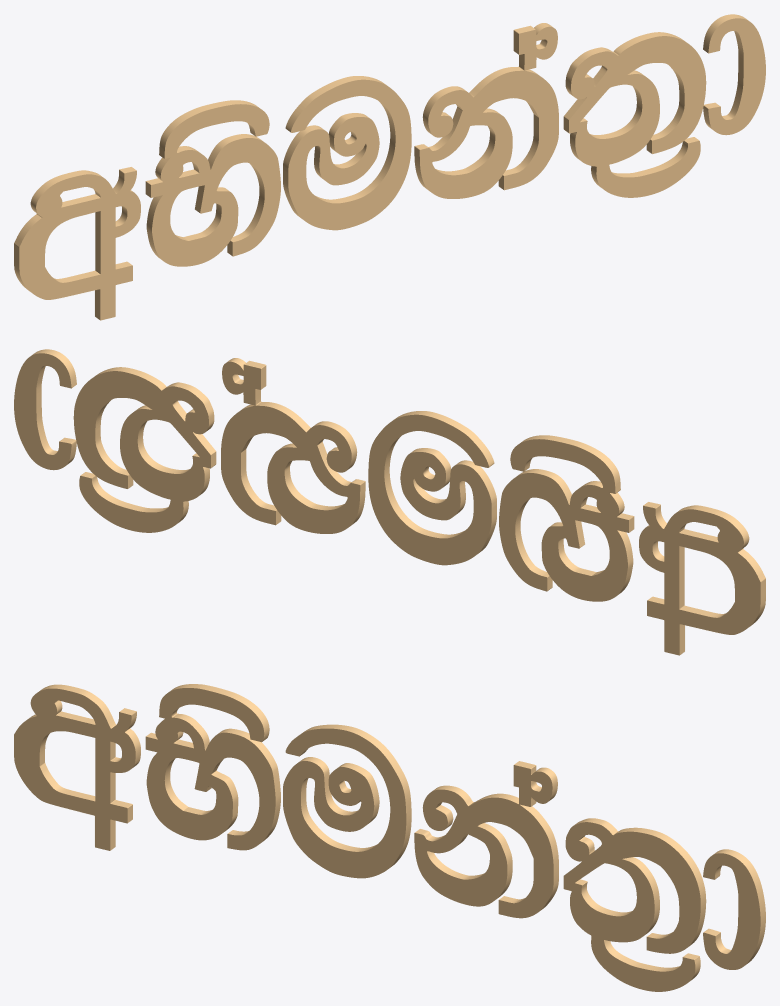
Rendered from myobj.glb.
3 views of the same model, one above another, from view 1: azimuth 30°, elevation 25°; view 2: azimuth 150°, elevation 25°; view 3: azimuth 330°, elevation 25° (orthographic).
Parts seen in each view (by area): view 1: Node1, Node2, Node3, Node5, Node4, Node6; view 2: Node1, Node2, Node3, Node5, Node4, Node6; view 3: Node1, Node2, Node3, Node5, Node4, Node6.
Part boxes in pixels (x1,y1,x2,y2): Node1: [563, 32, 706, 197]; Node2: [145, 100, 280, 266]; Node3: [414, 23, 558, 198]; Node5: [283, 76, 411, 230]; Node4: [14, 167, 140, 320]; Node6: [703, 14, 765, 135]; Node1: [73, 367, 216, 532]; Node2: [499, 435, 634, 601]; Node3: [221, 358, 365, 533]; Node5: [368, 411, 496, 565]; Node4: [639, 502, 765, 655]; Node6: [14, 349, 76, 470]; Node1: [563, 818, 706, 991]; Node2: [145, 684, 280, 850]; Node3: [414, 761, 558, 918]; Node5: [283, 724, 411, 878]; Node4: [14, 684, 140, 850]; Node6: [703, 849, 765, 969].
Bounding box in the file's own units: 402 × 99.5 × 5.
